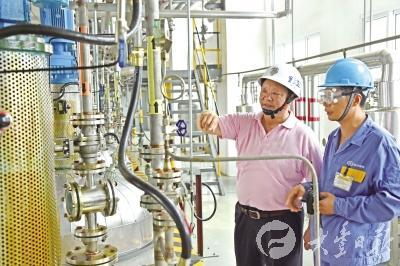helmet: (316, 56, 377, 125), (256, 62, 305, 119)
not_reflective: (314, 121, 400, 262), (225, 112, 325, 210)
